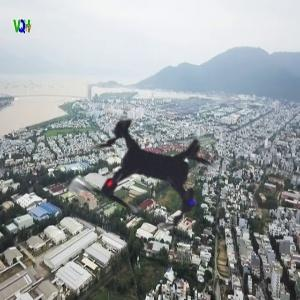drone: (37, 67, 258, 288)
